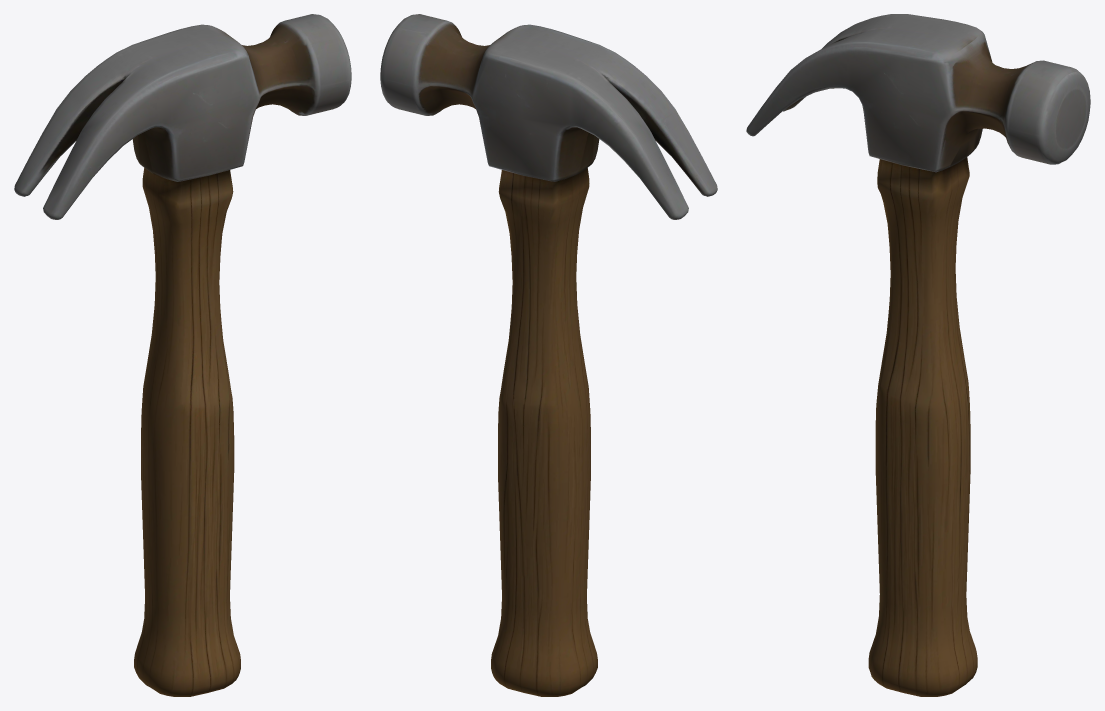
The model's file is primitive_hammer_03695747_v1.glb.
3 views of the same model, side by side, from view 1: azimuth 30°, elevation 25°; view 2: azimuth 150°, elevation 25°; view 3: azimuth 330°, elevation 25° (orthographic). The views are drawn at different scales.
Visible parts, largest first — view 1: mesh_input; view 2: mesh_input; view 3: mesh_input.
Boxes of the visible parts, x1,y1,x2,y2 form: mesh_input: [14, 14, 351, 696]; mesh_input: [380, 14, 717, 696]; mesh_input: [746, 14, 1090, 696].
Size of the model in its own units: 0.9375 by 1.9 by 0.2656.
1 material, 1 textured.
